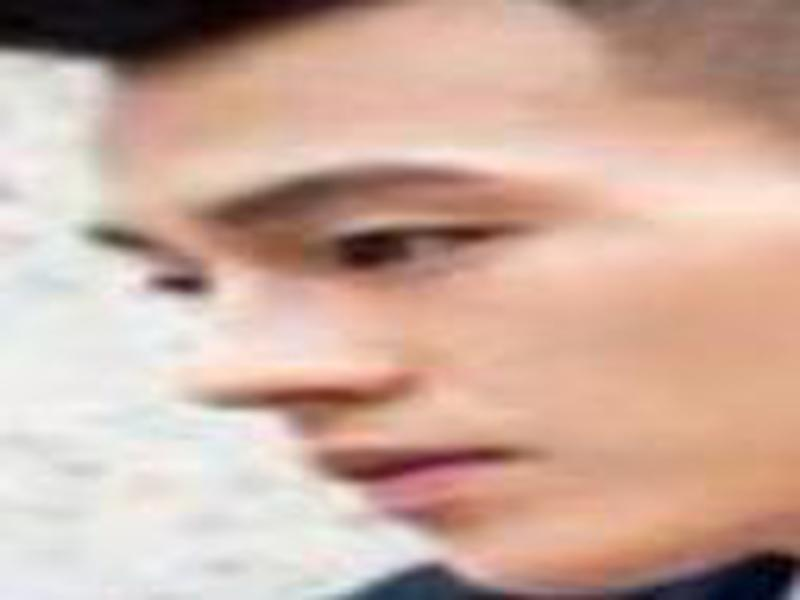without_mask: (89, 62, 800, 600)
